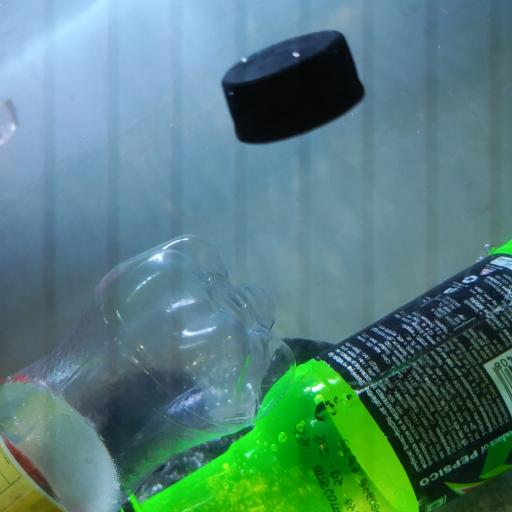bottle_cap: (219, 27, 368, 144)
plastic_bottle: (118, 229, 509, 511), (0, 232, 300, 512)
